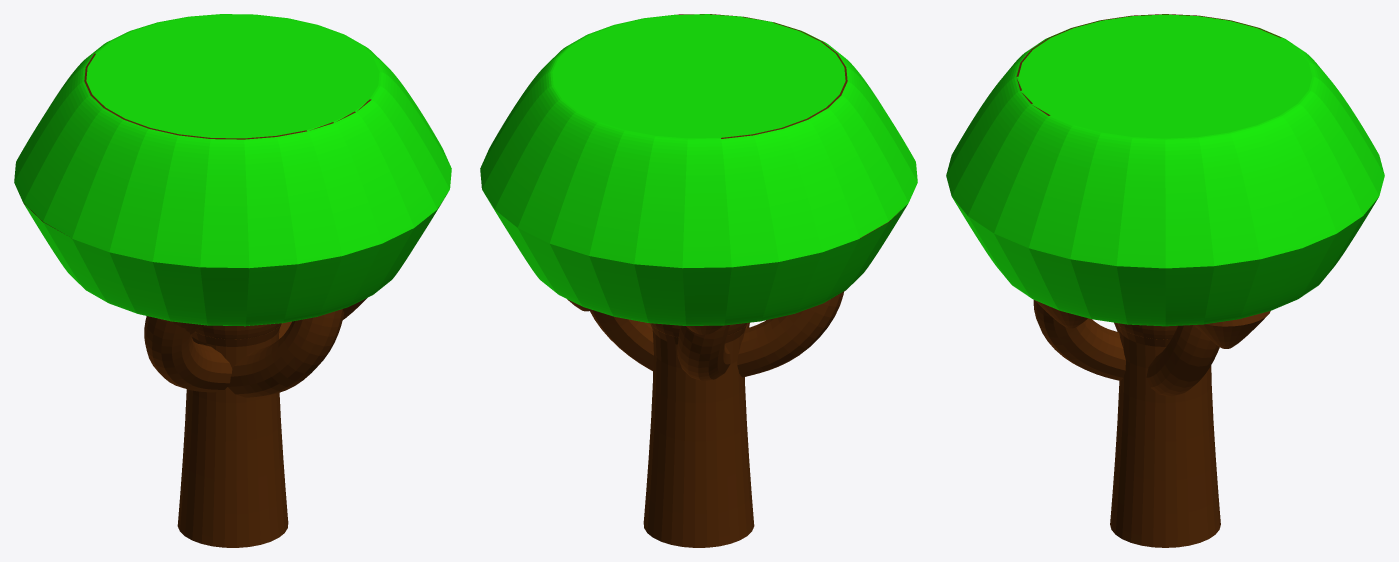
File: trees.fbx
3 views of the same model, side by side, from view 1: azimuth 30°, elevation 25°; view 2: azimuth 150°, elevation 25°; view 3: azimuth 270°, elevation 25° (orthographic).
Visible parts, largest first — view 1: imagetostl_mesh0; view 2: imagetostl_mesh0; view 3: imagetostl_mesh0.
Boxes of the visible parts, bbox=[...] form: imagetostl_mesh0: bbox=[14, 14, 451, 547]; imagetostl_mesh0: bbox=[480, 14, 917, 547]; imagetostl_mesh0: bbox=[946, 14, 1384, 547].
Size of the model in its own units: 201 by 226 by 201.
